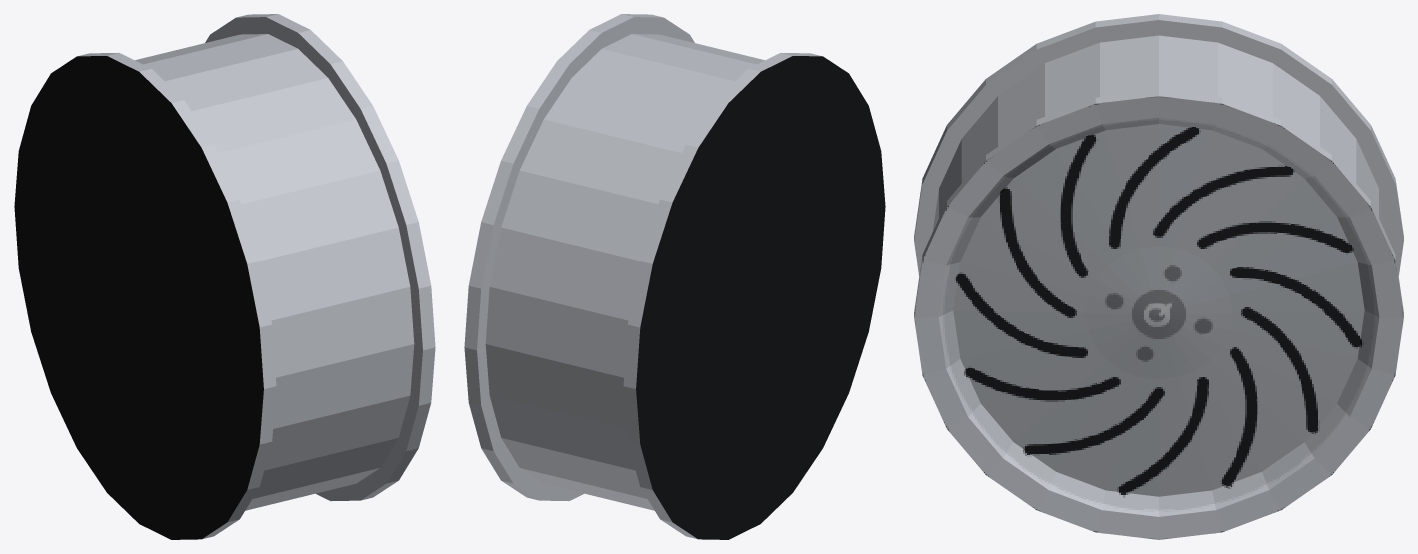
File: quebramola_turbina_17.glb
3 views of the same model, side by side, from view 1: azimuth 30°, elevation 25°; view 2: azimuth 150°, elevation 25°; view 3: azimuth 270°, elevation 25° (orthographic).
Parts seen in each view (by area): view 1: quebramola_turbina_17; view 2: quebramola_turbina_17; view 3: quebramola_turbina_17.
Part boxes in pixels (box(x1,y1,x2,y2)): quebramola_turbina_17: box(14, 14, 435, 539); quebramola_turbina_17: box(464, 14, 885, 539); quebramola_turbina_17: box(914, 14, 1403, 539).
Size of the model in its own units: 0.192 by 0.4836 by 0.4836.
Materials: 1 (1 with a texture image).
